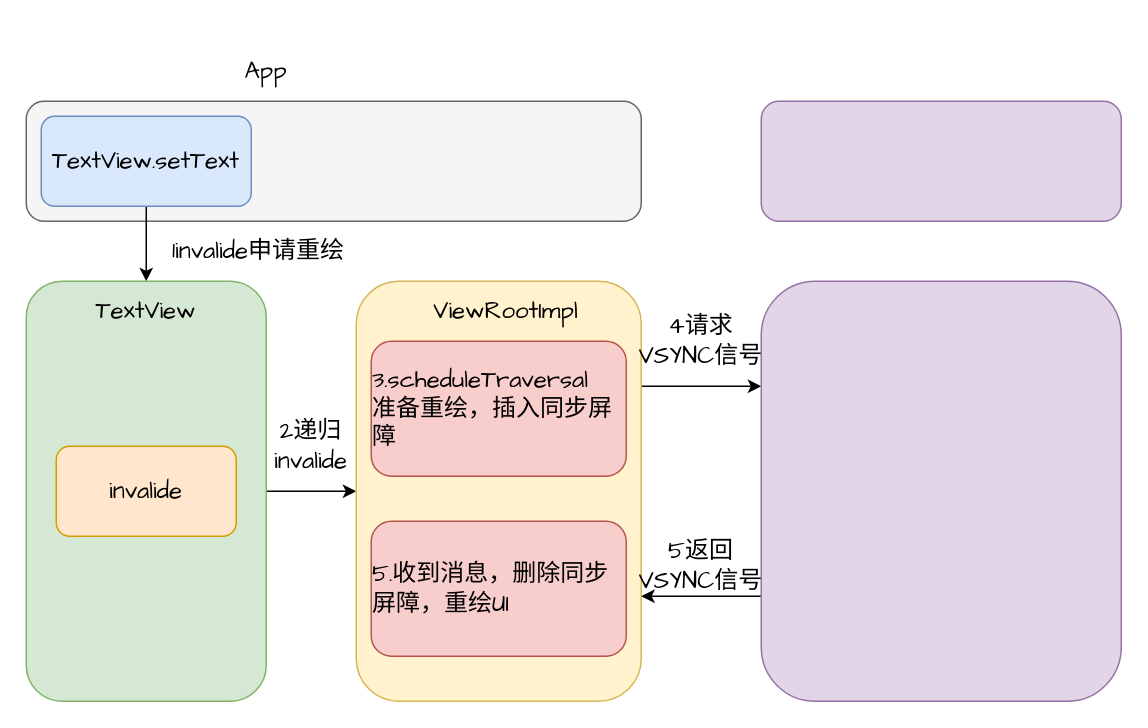
Image size: 1148x728. Some labels were removed from this diagram. The shapes that lost their labels are listed below. From the top down, each one's centre as x and y in pixels, then its label:
At pixel 940 160: "VSYNC同步信号服务".
At pixel 940 490: "VSYNC同步信号发生及派发服务".
